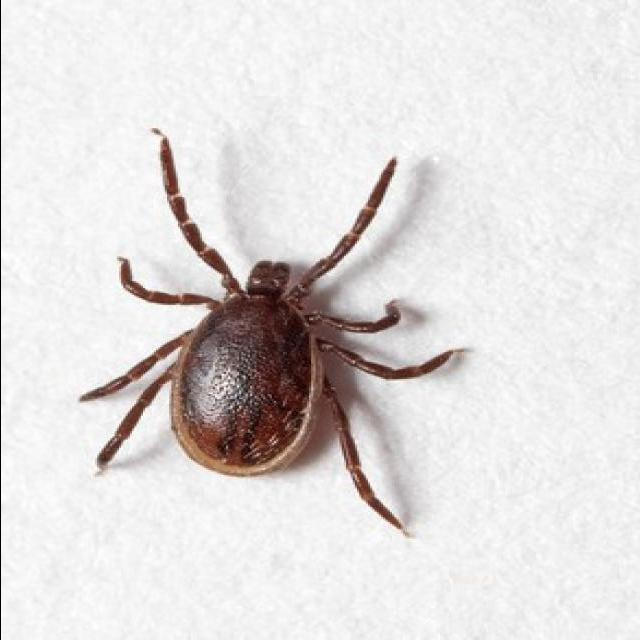Ixodes Ricinus-M: (76, 128, 467, 537), (76, 130, 450, 536)
